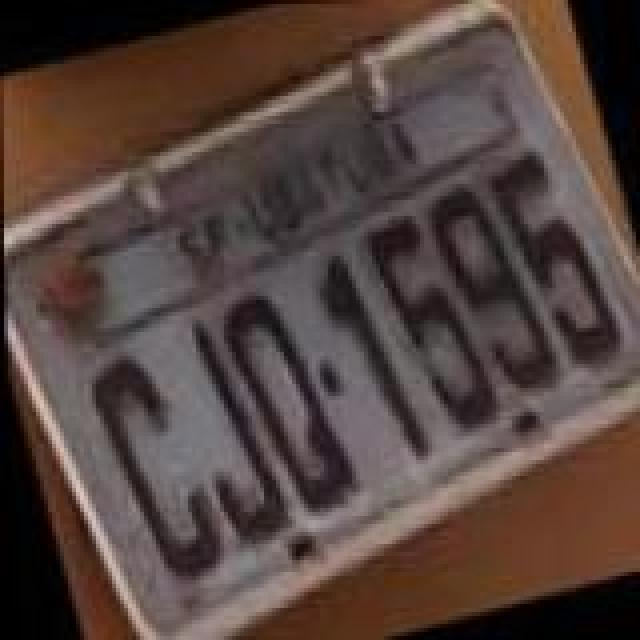1: (302, 238, 430, 478)
5: (354, 200, 502, 448), (478, 134, 626, 378)
9: (420, 174, 564, 406)
C: (72, 330, 228, 594)
J: (156, 300, 292, 556)
Q: (206, 274, 366, 530)
